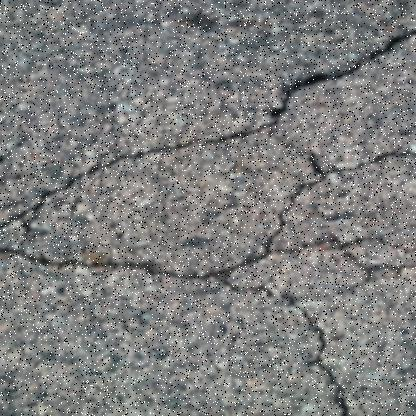Cracks: (0, 21, 416, 235), (0, 235, 416, 416)
